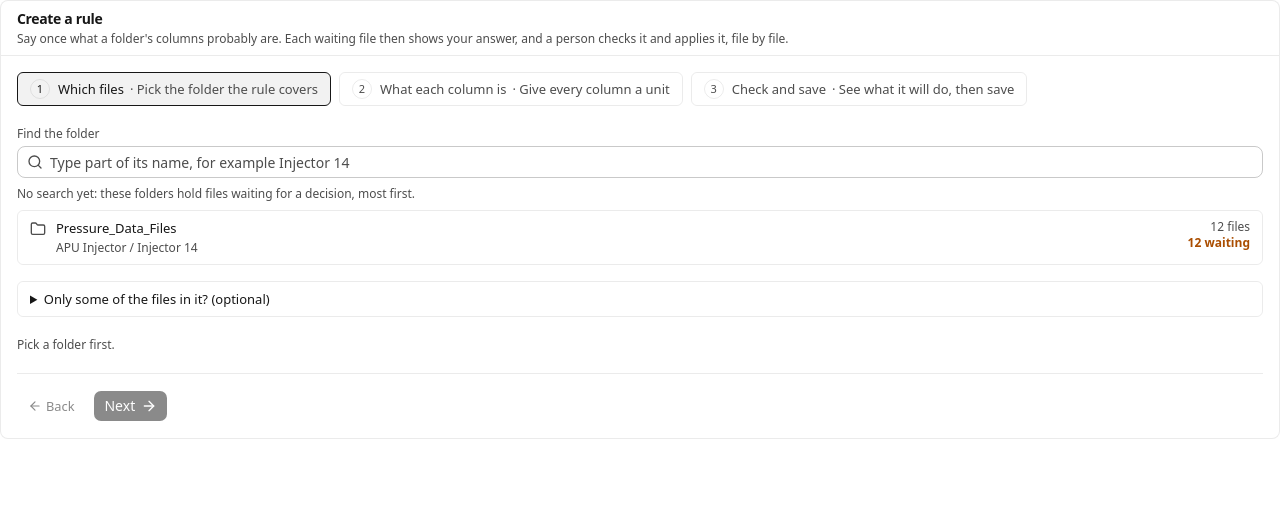
Scenario: RuleWizard › says plainly when the server will not accept the rule and offers no save
Click the button "Pressure_Data_Files". click: coordinates (116, 228)
box: 17,210 -> 1263,265
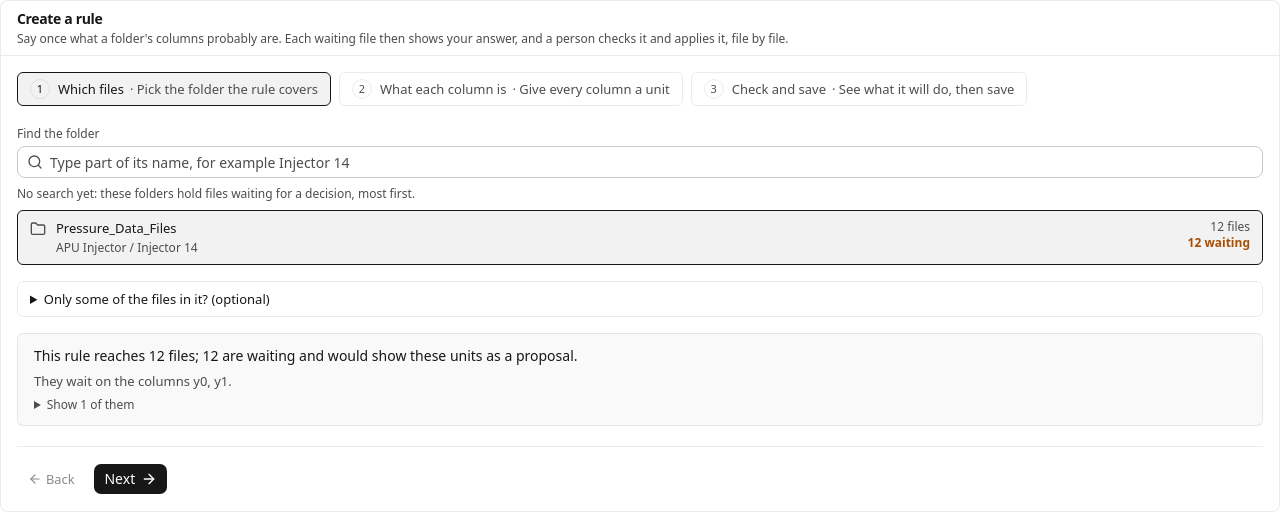
expect the text "reaches 12 files" is shown: met, box 34,346 -> 578,365
Click the button "Next". click: coordinates (131, 479)
box: 94,463 -> 168,495
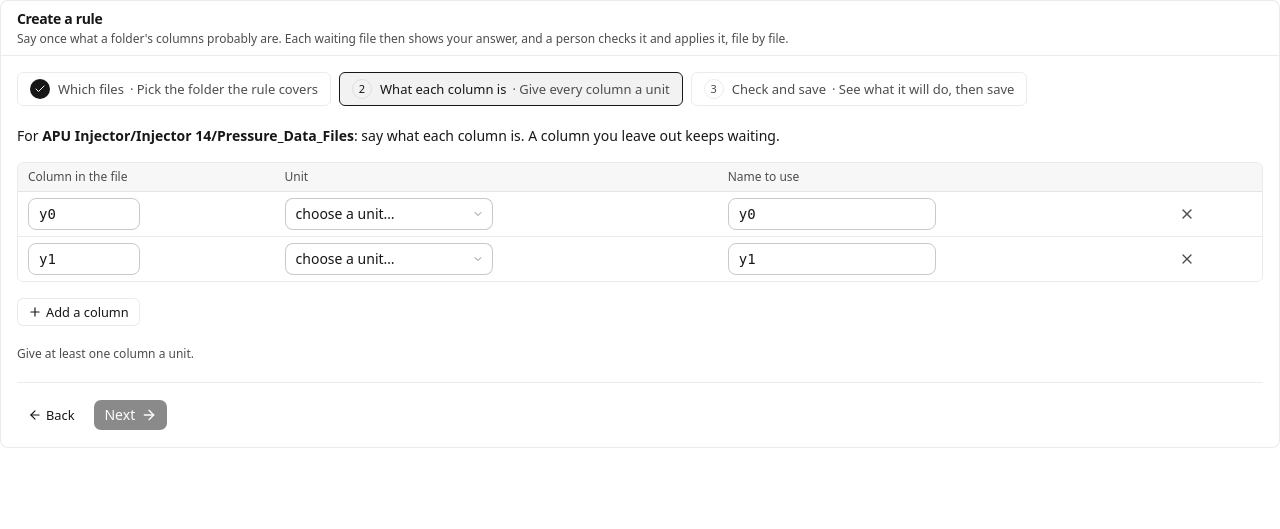
Select "°C" in the dropdown named "Unit of y0". click: coordinates (389, 214)
box: 285,198 -> 493,230
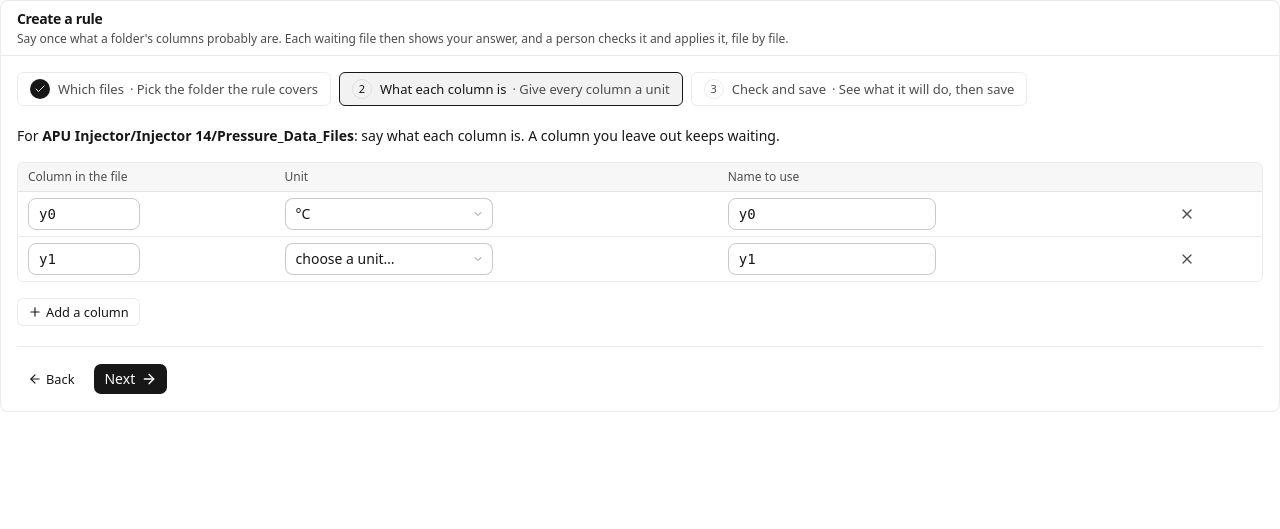
Click the button "Next". click: coordinates (131, 379)
box: 94,363 -> 168,395
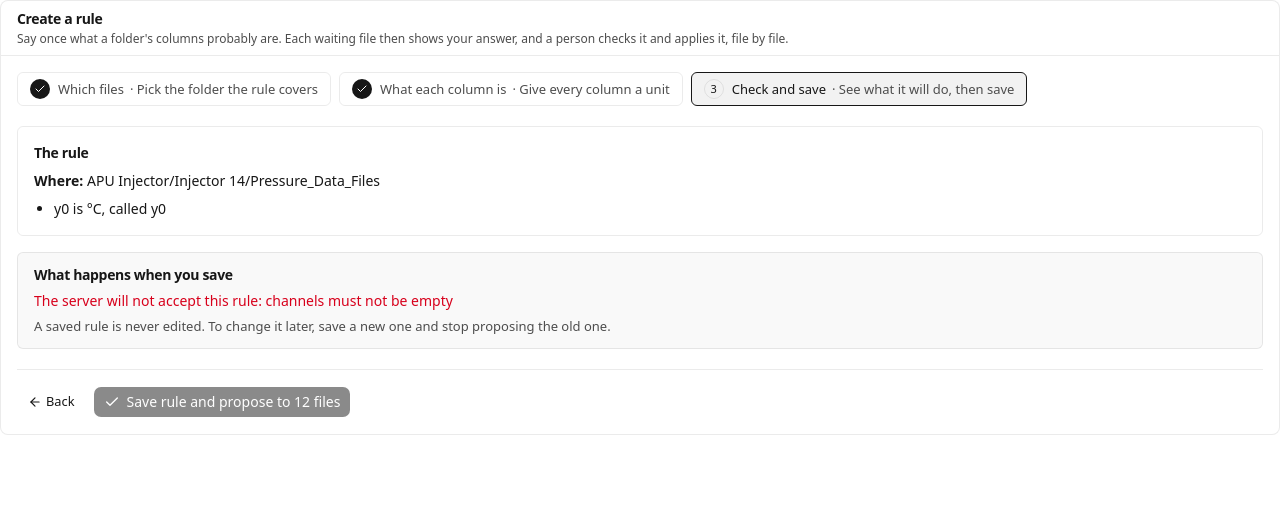
expect the text "will not accept this rule: channels must not be empty" is shown: met, box 34,291 -> 453,310
expect the button "Save rule and propose to 12 files" is disabled: met, box 94,386 -> 351,418
